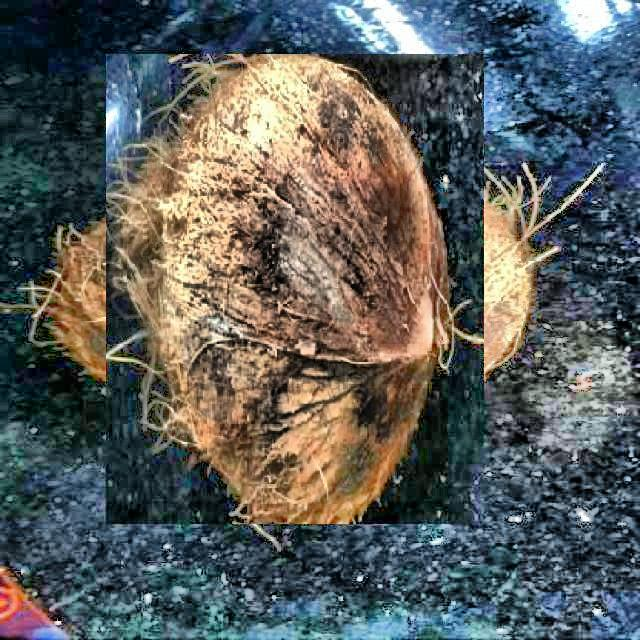good: (98, 49, 472, 582)
